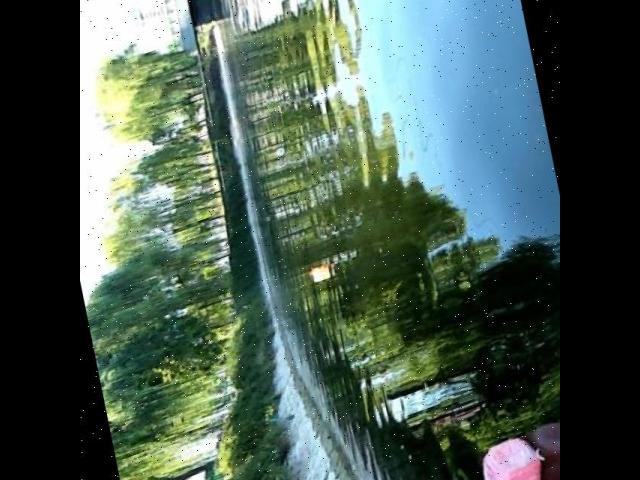Waste: (475, 430, 543, 480), (308, 258, 340, 286)
